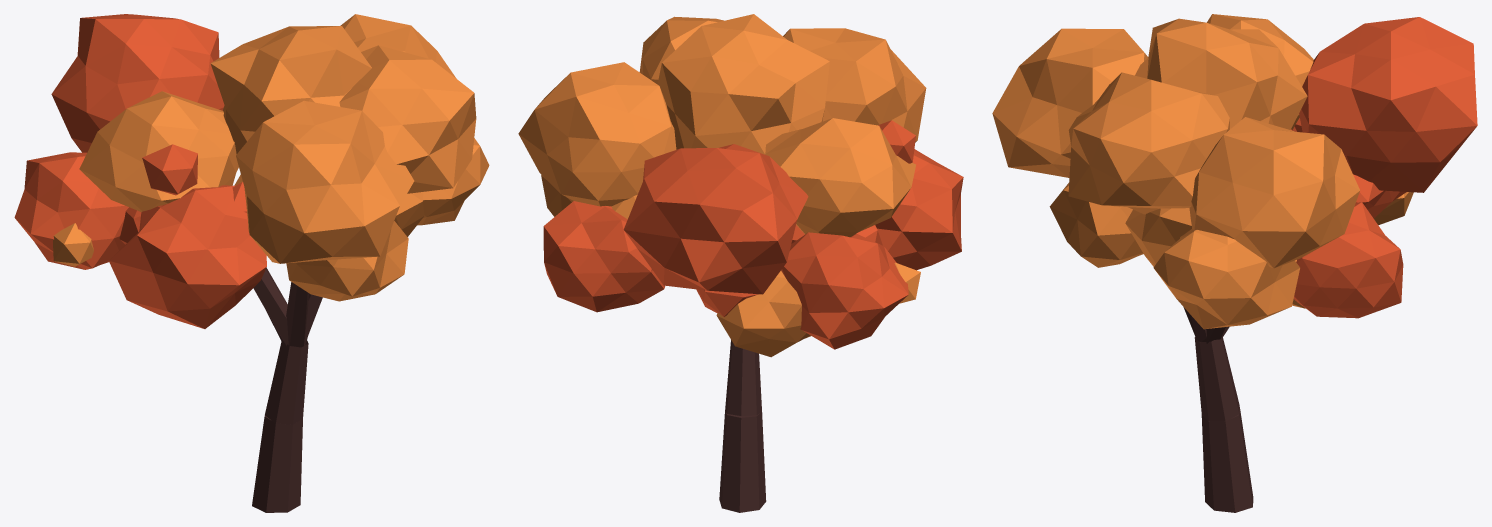
File: tree_maple_2.glb
The picture shows the model from 3 angles, left to right: view 1: azimuth 30°, elevation 25°; view 2: azimuth 150°, elevation 25°; view 3: azimuth 270°, elevation 25°; orthographic projection. The views are drawn at different scales.
Visible parts, largest first — view 1: tree_maple_2; view 2: tree_maple_2; view 3: tree_maple_2.
Boxes of the visible parts, left/top/right/bottom form: tree_maple_2: left=14, top=14, right=489, bottom=512; tree_maple_2: left=518, top=14, right=963, bottom=512; tree_maple_2: left=992, top=14, right=1477, bottom=512.
Size of the model in its own units: 9.4 by 10.5 by 9.52.
